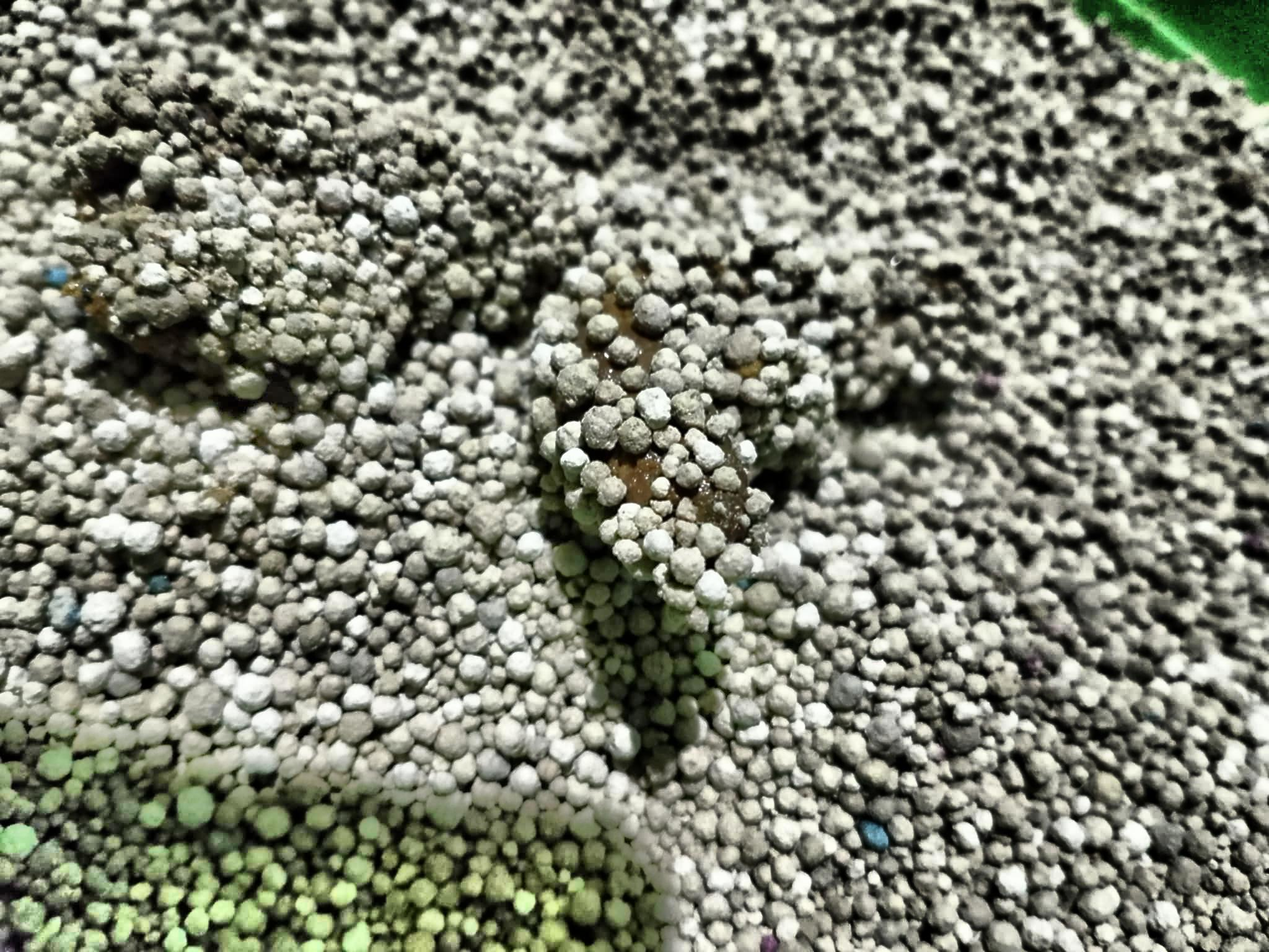poop: (51, 63, 990, 595)
